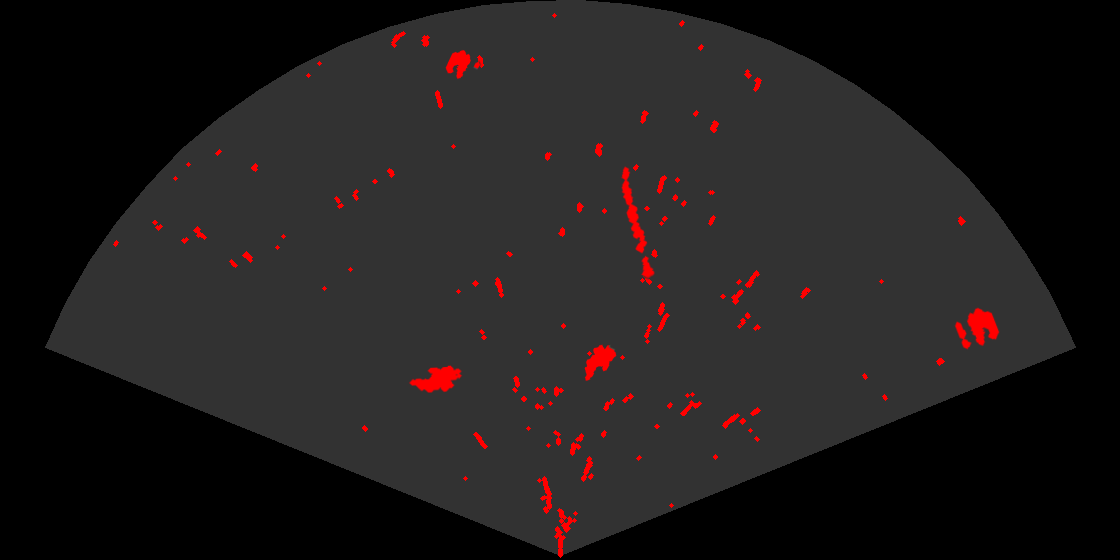AUV: (407, 364, 464, 394), (583, 343, 618, 383)
ball: (953, 306, 1001, 351), (444, 48, 482, 80)
chain: (619, 165, 656, 280)
